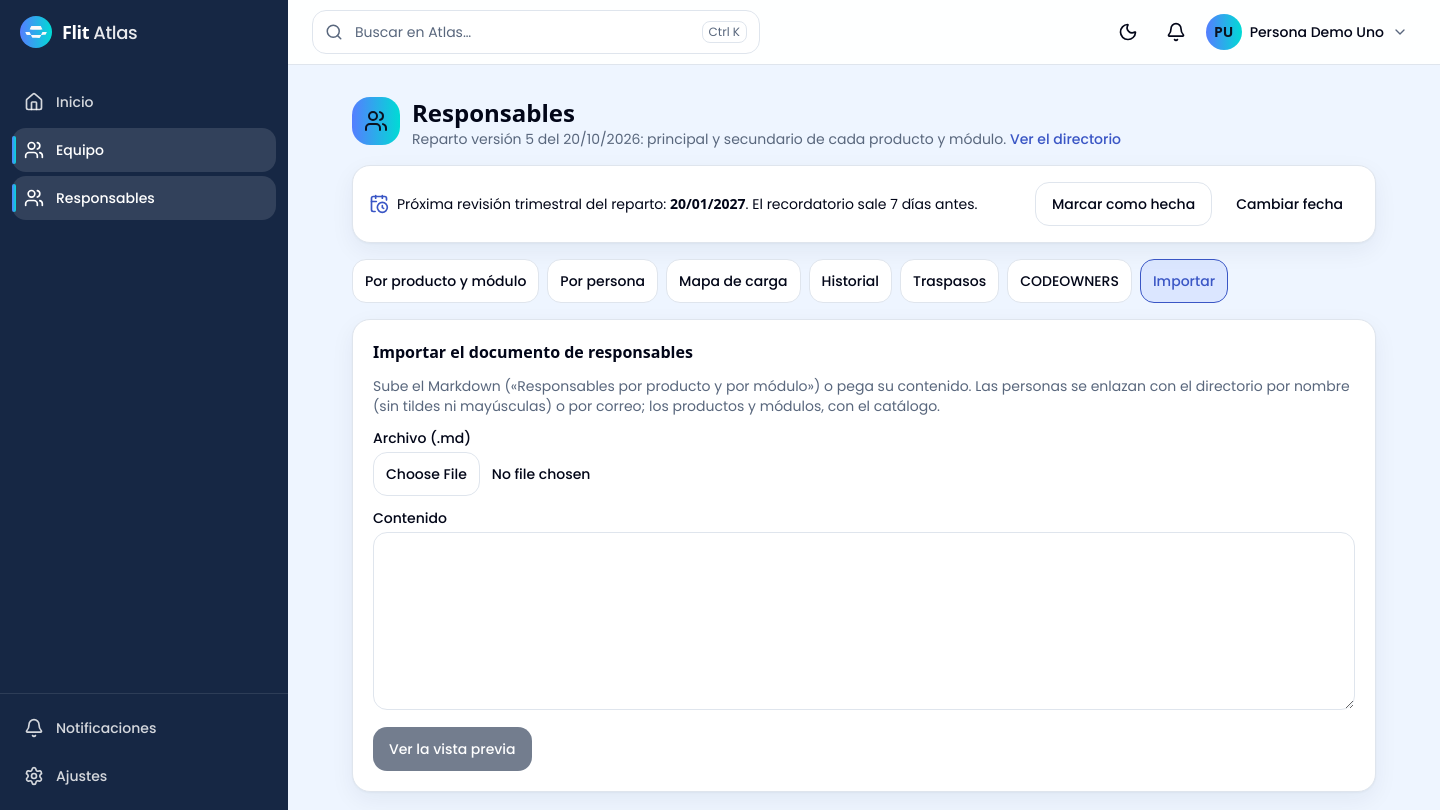
Test: responsables (HU 2.3 a 2.5) › importa el documento: vista previa y confirmación con su huella
Type "# Responsables por producto y por módulo" into the text box labelled "Contenido" at [864, 621], box [373, 532, 1355, 710]
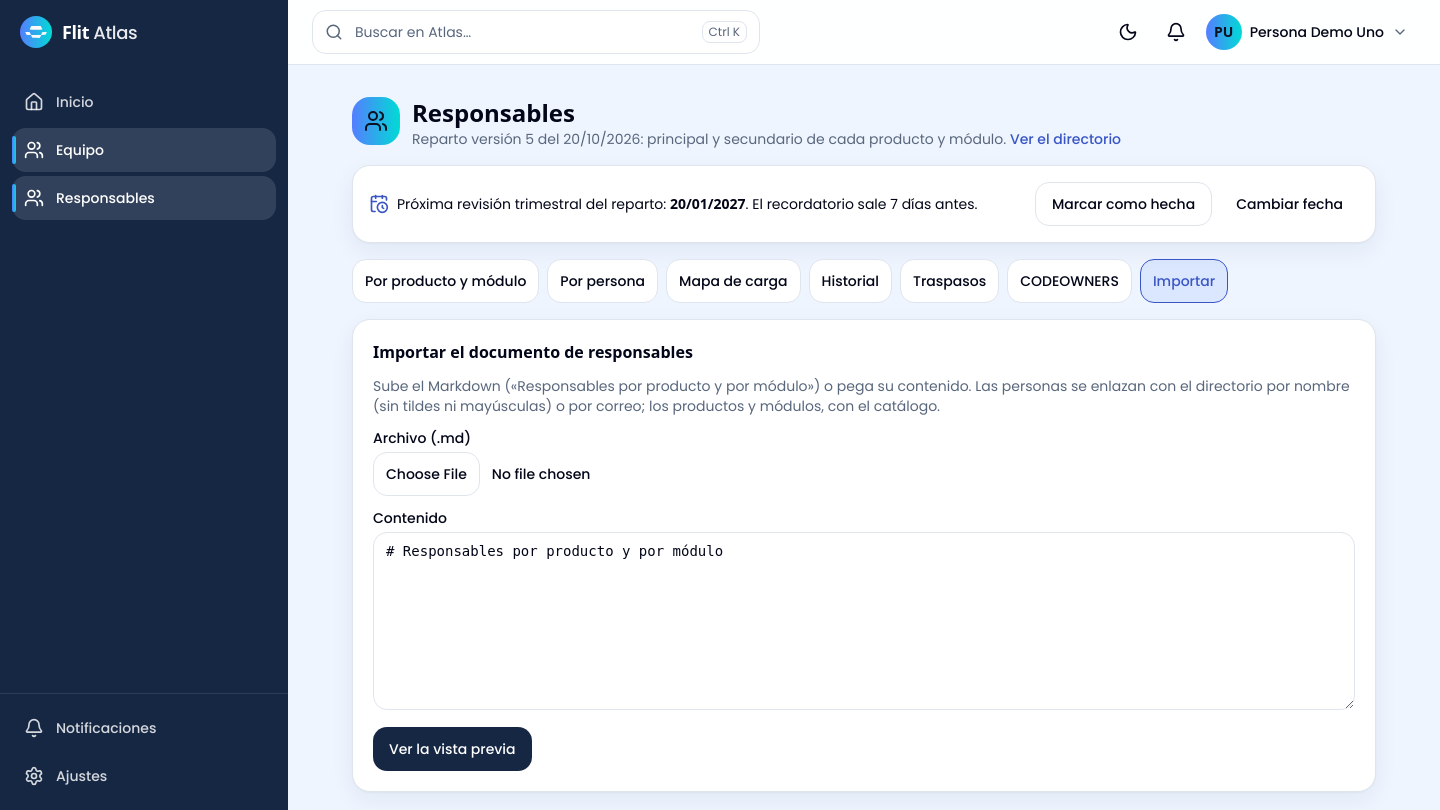
Click the button "Ver la vista previa" at [452, 749], box [373, 727, 532, 771]
(page scrolled)
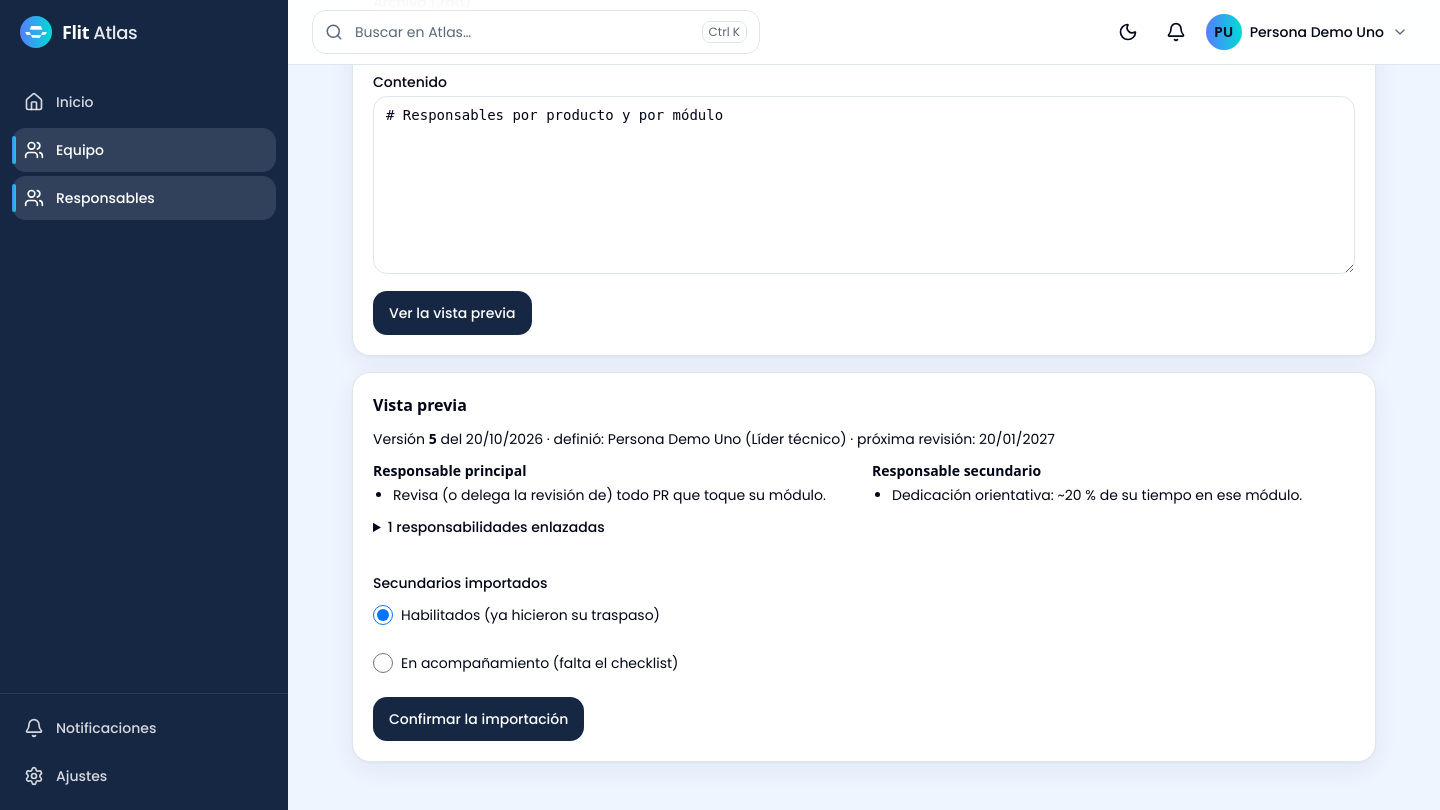
Expected: the heading "1 responsabilidades enlazadas" is shown, [388, 517, 605, 537]
Click the radio button labelled "En acompañamiento (falta el checklist)" at [383, 663], box [373, 653, 393, 673]
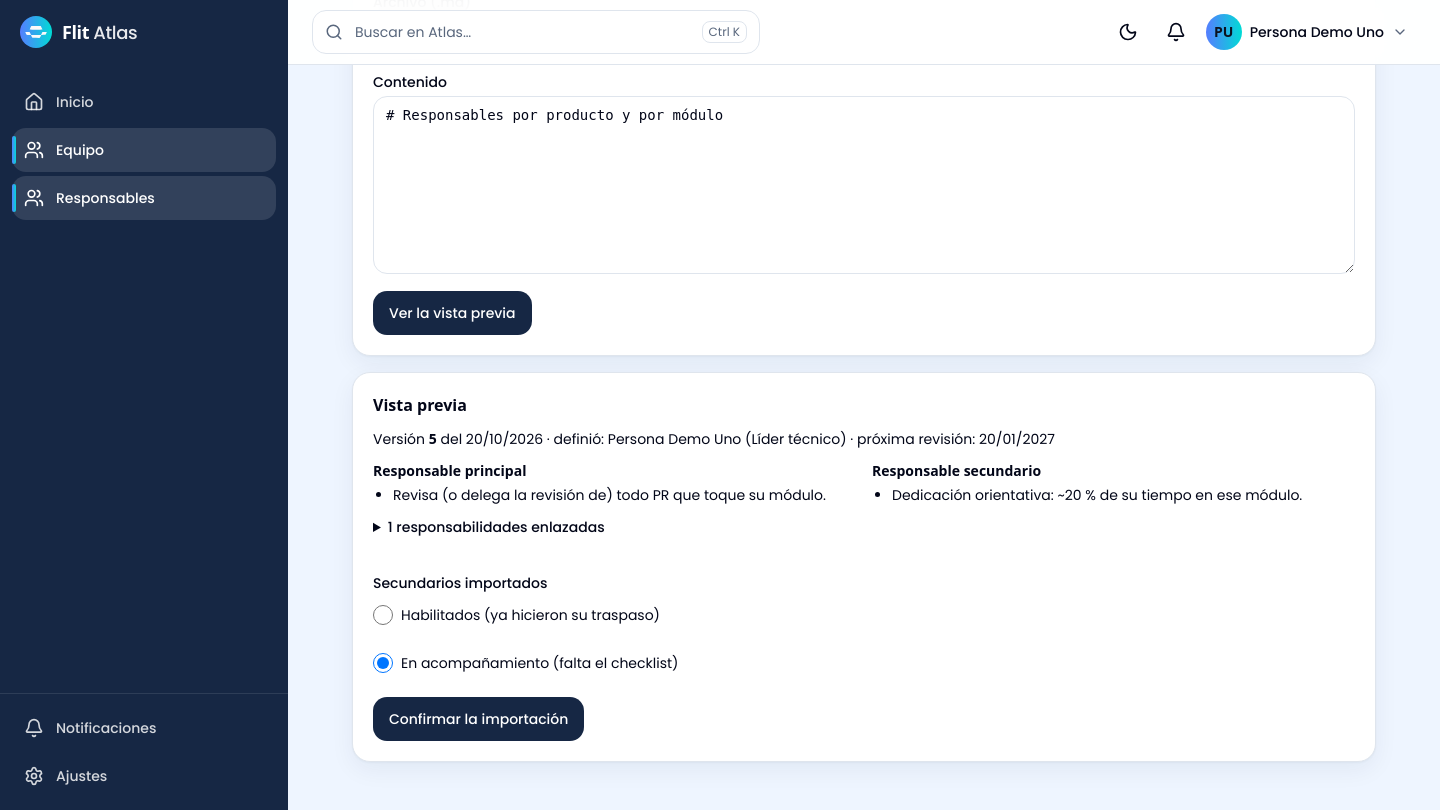
Click the button "Confirmar la importación" at [479, 719], box [373, 697, 584, 741]
(page scrolled)
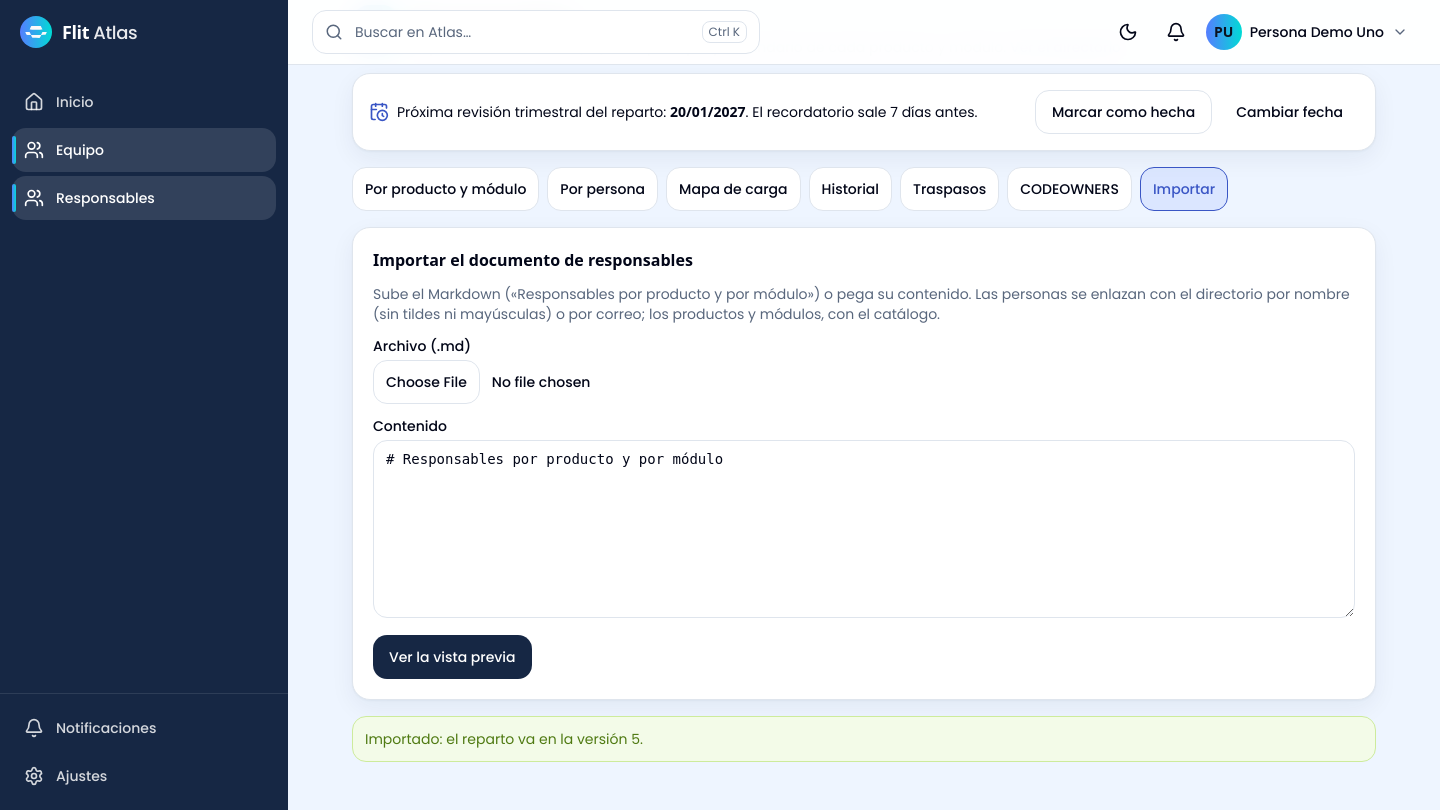
Expected: the text "Importado: el reparto va en la versión 5." is shown, [352, 716, 1376, 762]
